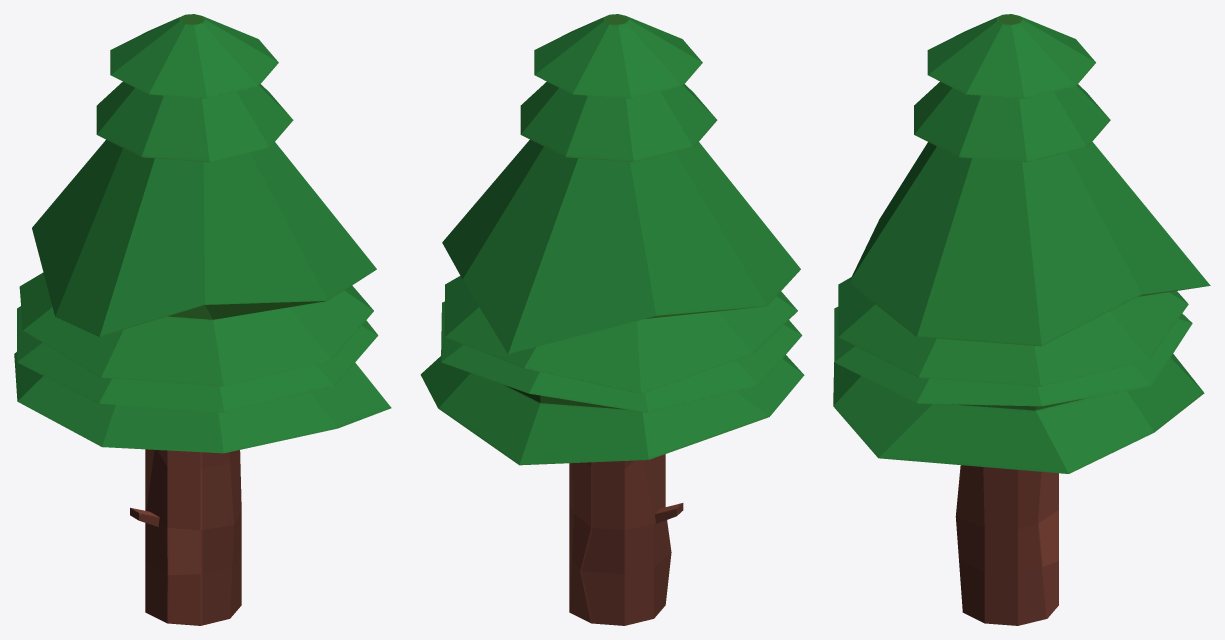
File: Tree.glb
The picture shows the model from 3 angles, left to right: view 1: azimuth 30°, elevation 25°; view 2: azimuth 150°, elevation 25°; view 3: azimuth 270°, elevation 25°; orthographic projection.
Parts seen in each view (by area): view 1: Cube; view 2: Cube; view 3: Cube.
Boxes of the visible parts, x1,y1,x2,y2 form: Cube: (14,14,391,625); Cube: (420,14,804,625); Cube: (833,14,1210,625).
Size of the model in its own units: 3.08 by 5.23 by 3.05.
1 material, 1 textured.
